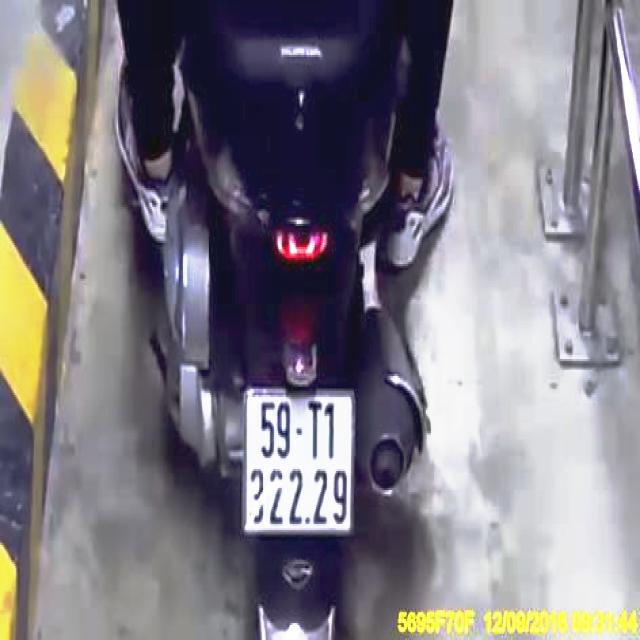license_plate: (245, 389, 355, 534)
